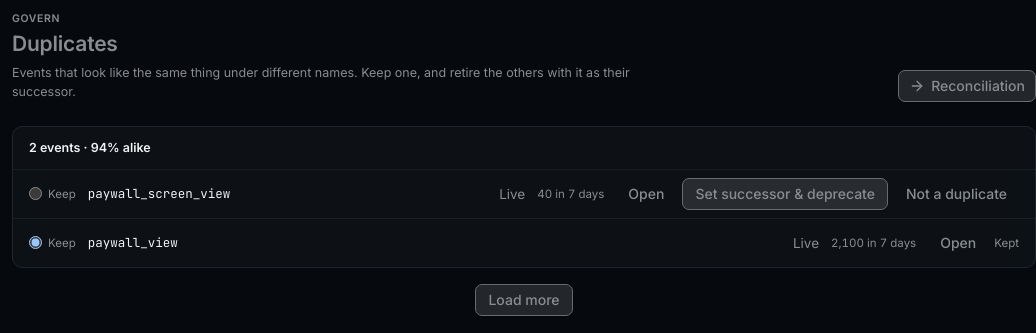
Test case: DuplicatesPage (F12, #265) › renders a cluster that arrives on two pages once
The width and height of the screenshot is (1036, 333).
Click the button "Load more". click: (524, 300)
box: [475,284,572,316]
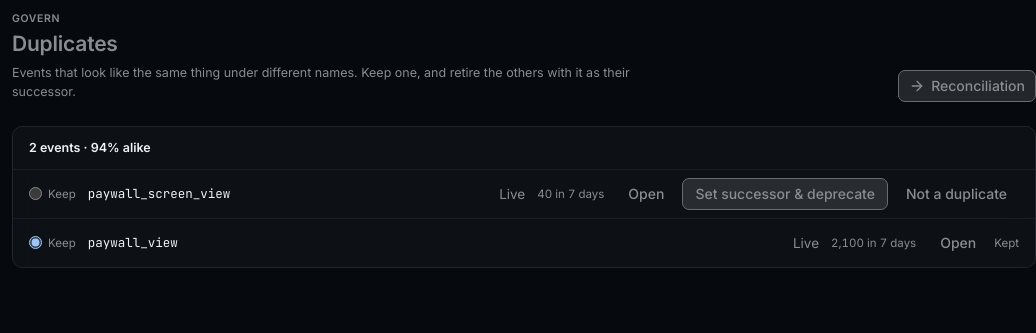
Expected: the number of headings "2 events · 94% alike" is 1, [29,140,151,154]
Expected: the button "Load more" is gone
